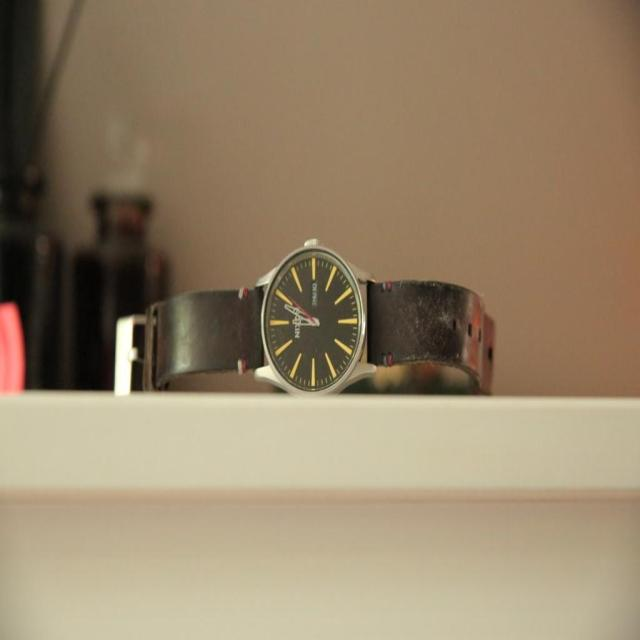Wrist watch: (113, 238, 498, 397)
